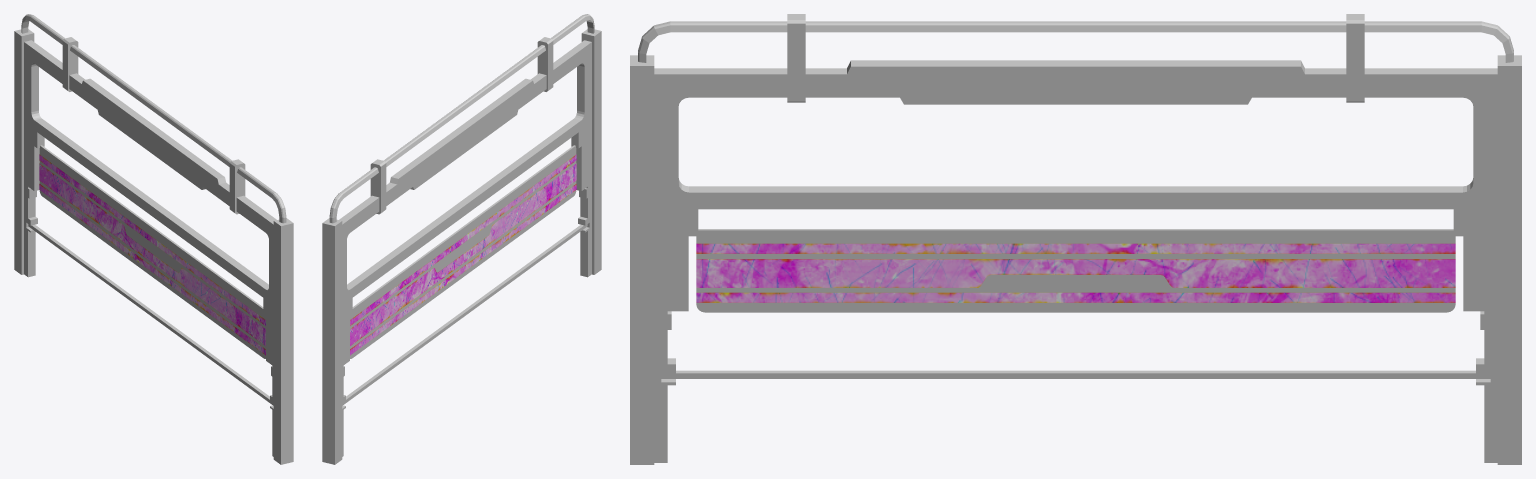
File: rail_02.fbx
3 views of the same model, side by side, from view 1: azimuth 30°, elevation 25°; view 2: azimuth 150°, elevation 25°; view 3: azimuth 270°, elevation 25° (orthographic). The views are drawn at different scales.
Visible parts, largest first — view 1: Cube.309, Cube.312, Cube.308; view 2: Cube.309, Cube.312, Cube.308; view 3: Cube.309, Cube.308, Cube.312.
Part boxes in pixels (x1=…): Cube.309: x1=24, y1=37, x2=276, y2=456; Cube.312: x1=14, y1=14, x2=293, y2=464; Cube.308: x1=39, y1=154, x2=265, y2=355; Cube.309: x1=339, y1=37, x2=591, y2=456; Cube.312: x1=322, y1=14, x2=601, y2=464; Cube.308: x1=350, y1=154, x2=576, y2=355; Cube.309: x1=654, y1=14, x2=1497, y2=462; Cube.308: x1=696, y1=243, x2=1455, y2=302; Cube.312: x1=630, y1=21, x2=1521, y2=464.
Bounding box in the file's own units: 0.05 × 0.9984 × 1.82.
